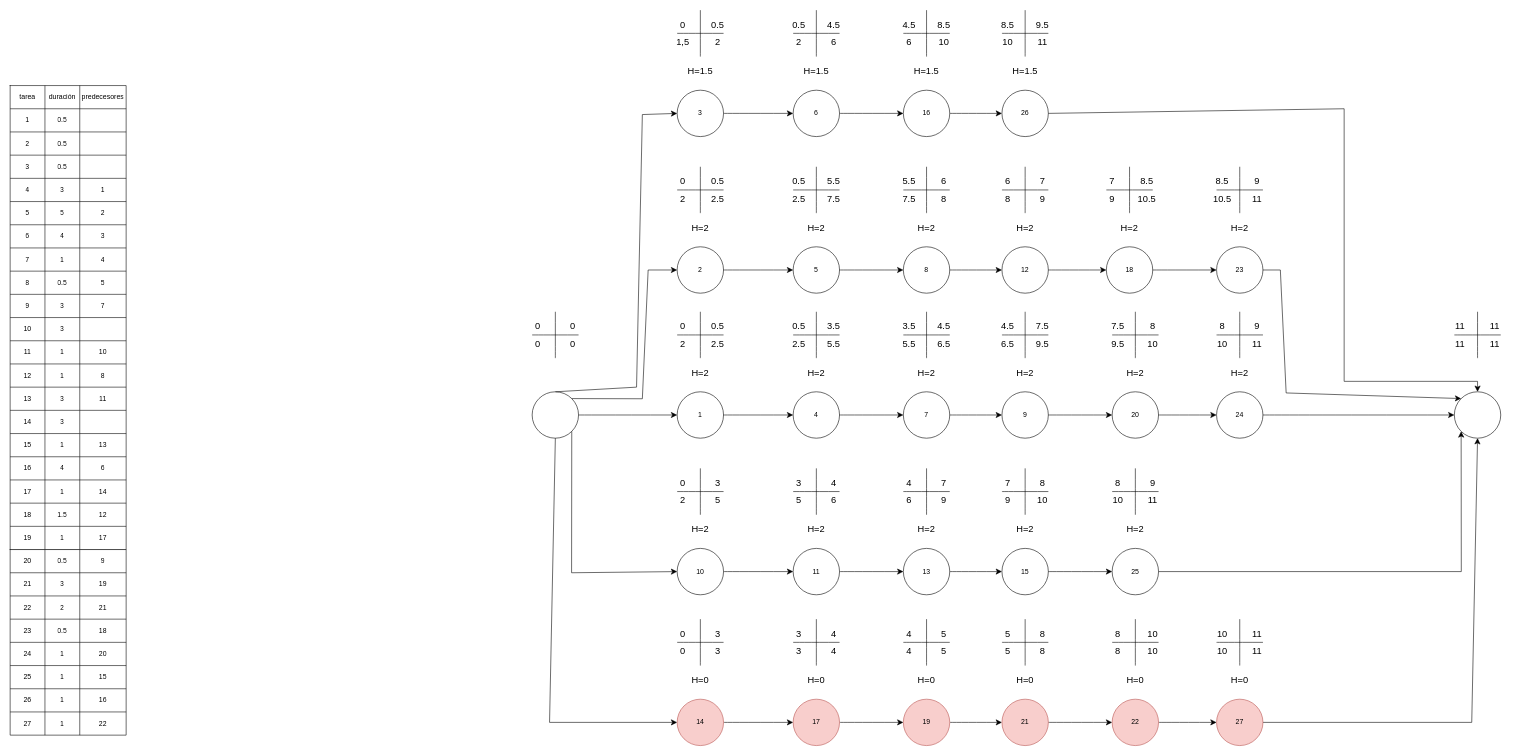
This 1523x756 diagram has some shape labels left out. The box of each missing label's shape, as (x1, y1, x2, y2) in pixels:
FINAL: (1454, 391, 1501, 438)
INICIO: (532, 391, 579, 438)
